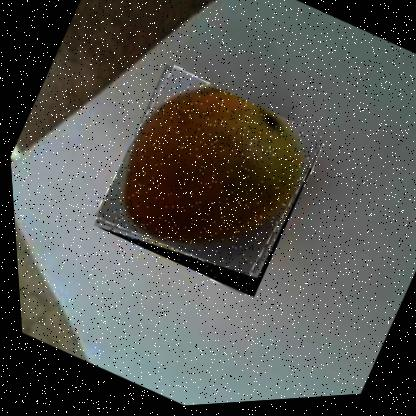mango: (82, 58, 333, 309)
